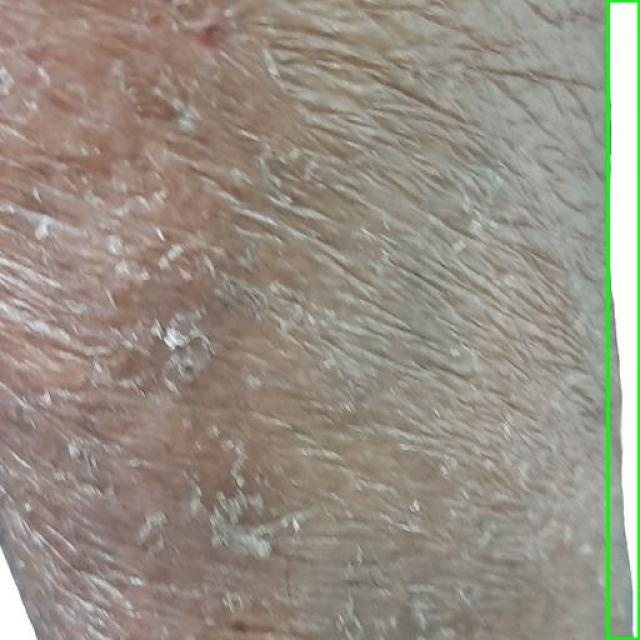Tinea Corporis: (608, 0, 639, 639)
